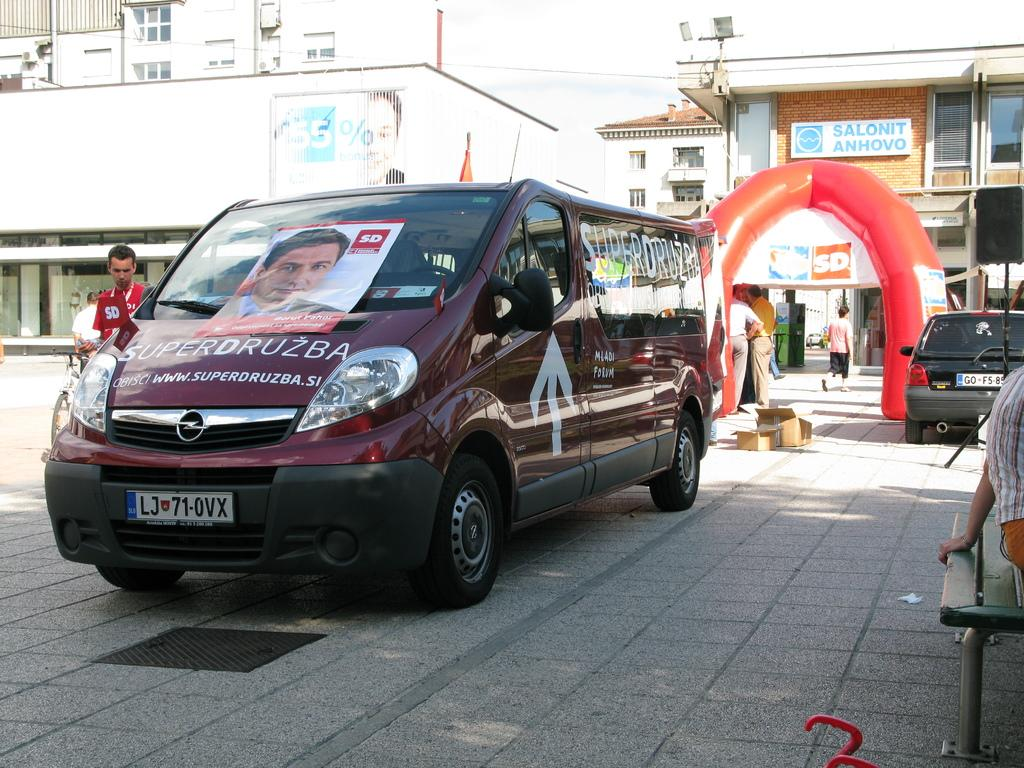vehicle: (46, 179, 712, 606), (901, 310, 1024, 444)
